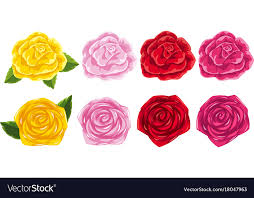lale: (1, 92, 83, 159), (3, 27, 80, 93), (76, 89, 137, 150), (74, 28, 136, 87), (132, 86, 188, 151), (137, 29, 198, 88), (193, 29, 254, 85), (194, 93, 254, 149)
